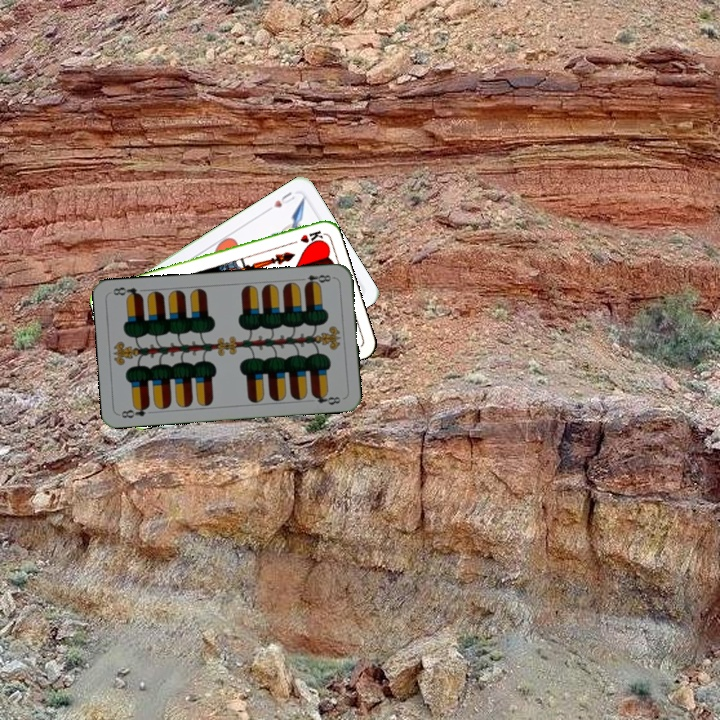E8: (296, 271, 336, 289), (117, 401, 152, 421)
HK: (284, 226, 325, 248)
HU: (270, 188, 298, 210)
